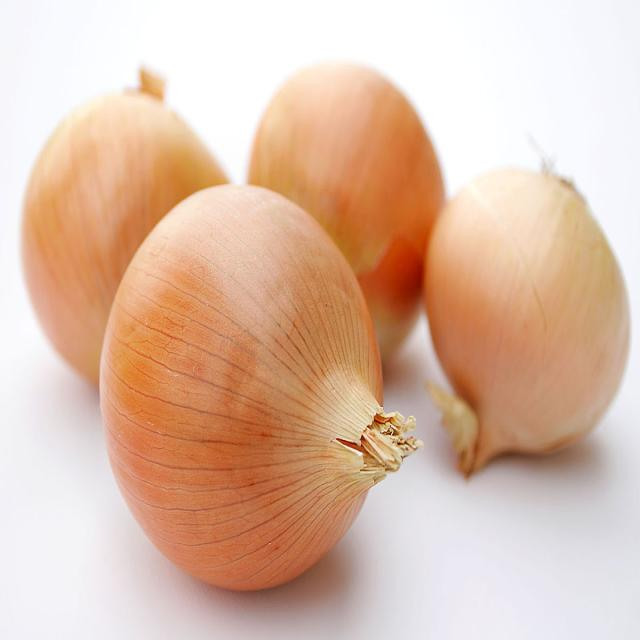Onion: (92, 186, 421, 618), (425, 132, 635, 486), (251, 62, 456, 358)
